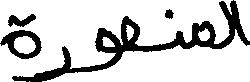X: (0, 9, 39, 81), (95, 23, 120, 75), (41, 41, 68, 81), (233, 0, 249, 50), (122, 11, 139, 58), (193, 16, 211, 52), (220, 0, 231, 53), (175, 26, 182, 52)
